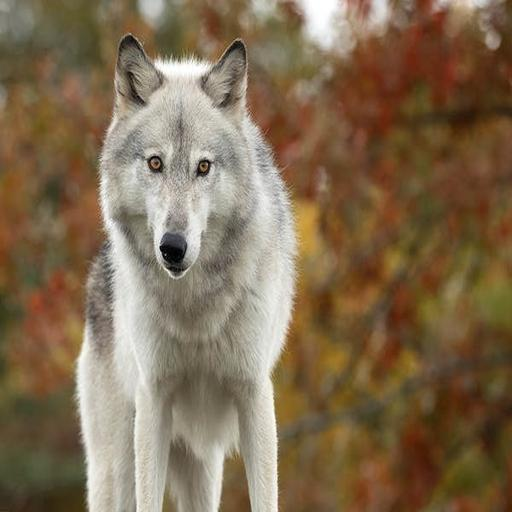Wolf: (78, 32, 307, 509)
